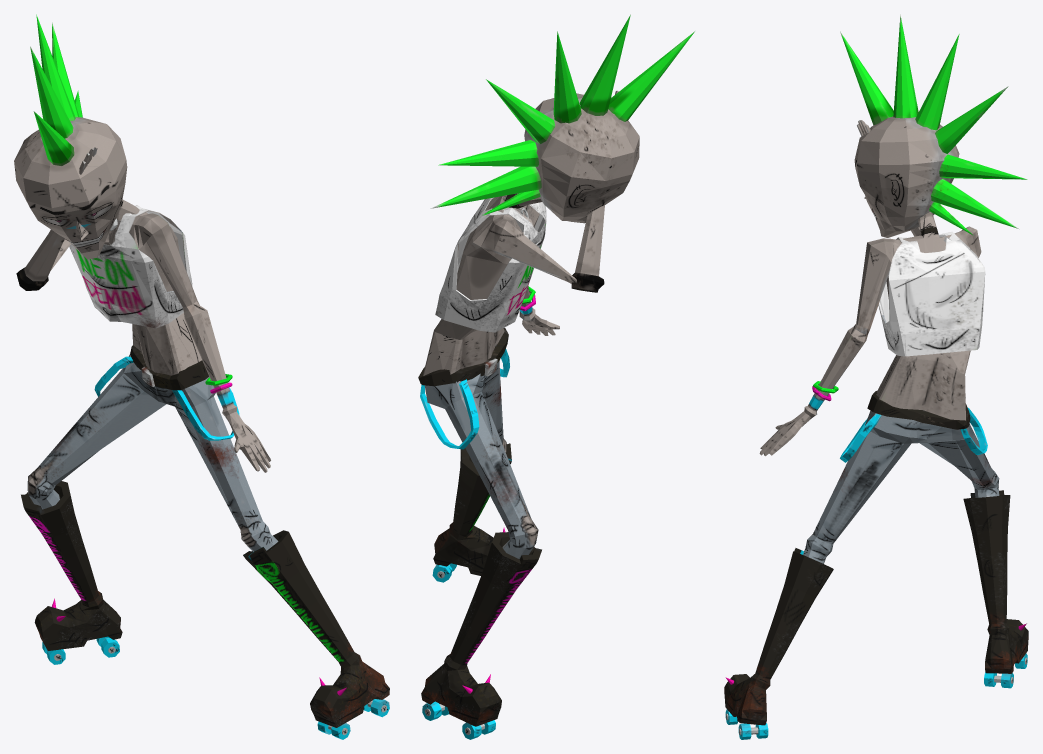
The model's file is punkAnimation_000035.obj.
The picture shows the model from 3 angles, left to right: view 1: azimuth 30°, elevation 25°; view 2: azimuth 150°, elevation 25°; view 3: azimuth 270°, elevation 25°; orthographic projection. The views are drawn at different scales.
Parts seen in each view (by area): view 1: Cube.004_Cube.003; view 2: Cube.004_Cube.003; view 3: Cube.004_Cube.003.
Part boxes in pixels (x1=…): Cube.004_Cube.003: x1=14, y1=14, x2=389, y2=739; Cube.004_Cube.003: x1=418, y1=14, x2=694, y2=739; Cube.004_Cube.003: x1=724, y1=14, x2=1028, y2=739.
Size of the model in its own units: 3.13 by 6.72 by 3.01.
